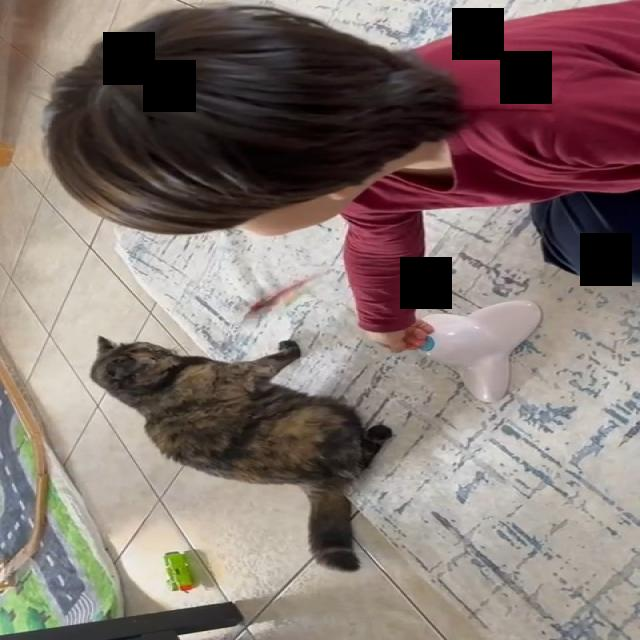authorized: (88, 334, 393, 572)
